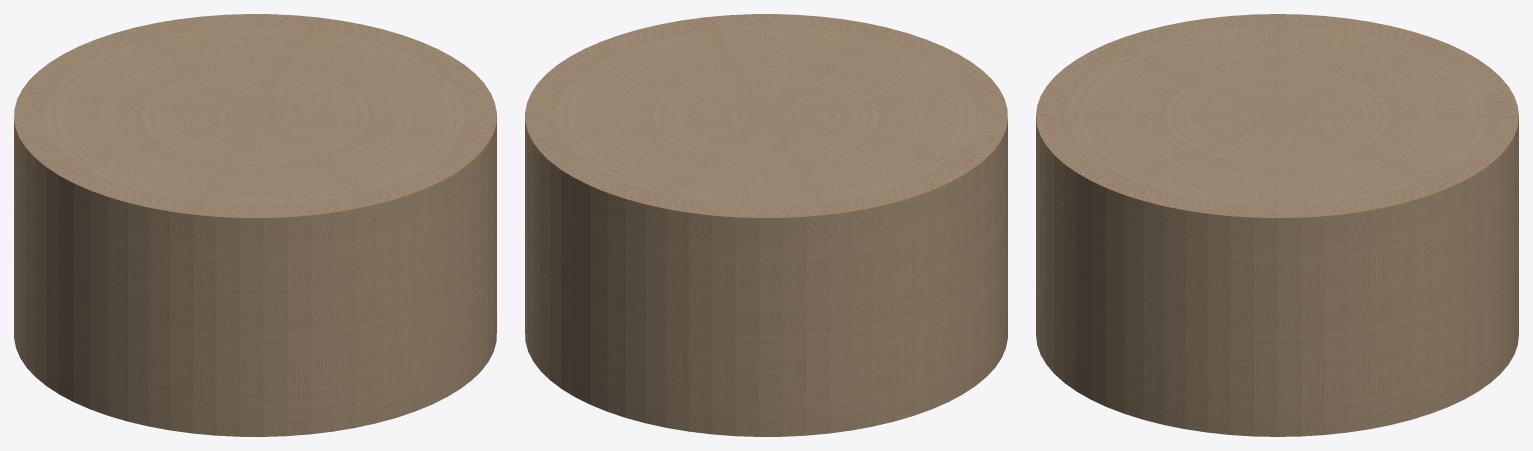
File: rug.glb
3 views of the same model, side by side, from view 1: azimuth 30°, elevation 25°; view 2: azimuth 150°, elevation 25°; view 3: azimuth 270°, elevation 25° (orthographic).
Parts seen in each view (by area): view 1: RoundRug; view 2: RoundRug; view 3: RoundRug.
Part boxes in pixels (<box>): RoundRug: <box>14,14,496,436</box>; RoundRug: <box>525,14,1007,436</box>; RoundRug: <box>1036,14,1518,436</box>.
Bounding box in the file's own units: 2 × 1 × 2.
1 material, 1 textured.
